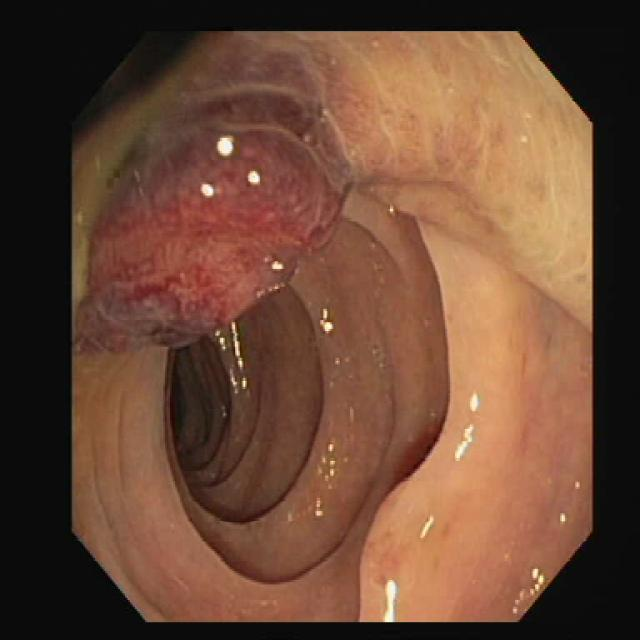tumor: (78, 91, 350, 347), (362, 473, 428, 620)
